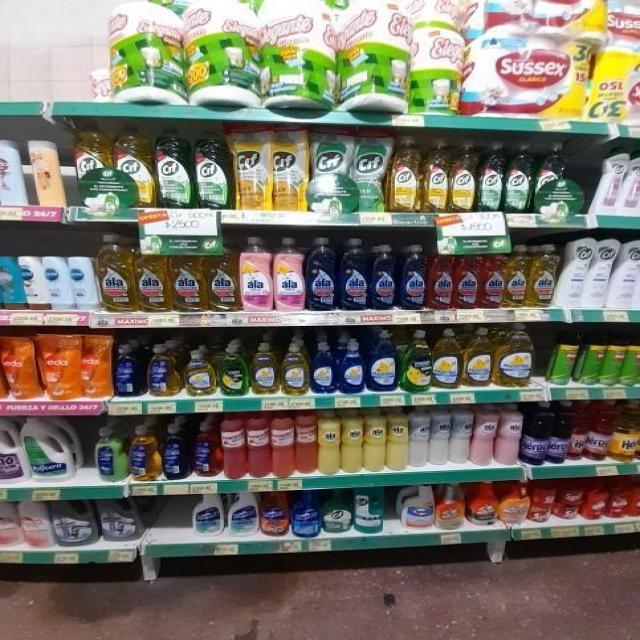ala_conc_amarillo: (98, 233, 134, 313), (135, 235, 170, 313), (171, 237, 205, 312), (206, 236, 238, 313), (528, 244, 556, 308), (506, 244, 528, 308)
ala_conc_azul: (306, 237, 337, 312), (339, 238, 368, 311), (370, 244, 398, 311), (400, 244, 426, 311)
ala_conc_rojo: (454, 244, 480, 310), (428, 243, 453, 311), (480, 244, 504, 310)
ala_crem_amarillo: (317, 409, 340, 475), (363, 407, 386, 473), (387, 407, 408, 472), (342, 408, 362, 474)
ala_crem_blanco: (450, 405, 471, 467), (408, 407, 428, 470), (430, 406, 450, 468)
ala_crem_rosado: (497, 403, 522, 466), (472, 404, 496, 467)
ala_ultra_rosa: (239, 236, 272, 312), (274, 237, 305, 312)
cif_conc_bot_amarilla: (114, 123, 154, 209), (74, 121, 112, 210), (390, 135, 420, 213), (422, 137, 449, 213), (450, 139, 476, 213)
cif_conc_botella_verde: (194, 126, 230, 210), (156, 127, 192, 209), (506, 141, 534, 213), (478, 141, 504, 212)
cif_conc_sachet_amarillo: (232, 122, 270, 212), (272, 123, 308, 213)
cif_conc_sachet_verde: (310, 125, 353, 213), (353, 126, 388, 213)
magistral_con_amarillo: (495, 323, 535, 388), (432, 328, 461, 391), (463, 327, 492, 389), (280, 342, 310, 395), (183, 349, 216, 397), (251, 341, 279, 396)
magistral_con_azul: (368, 330, 398, 392), (338, 339, 366, 394), (312, 341, 336, 394)
magistral_con_verde: (217, 342, 249, 397)
zorro: (146, 344, 180, 397)
